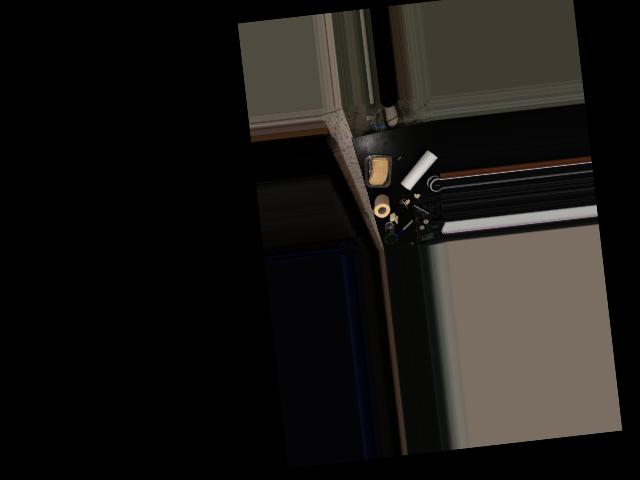cheese: (360, 149, 396, 190)
